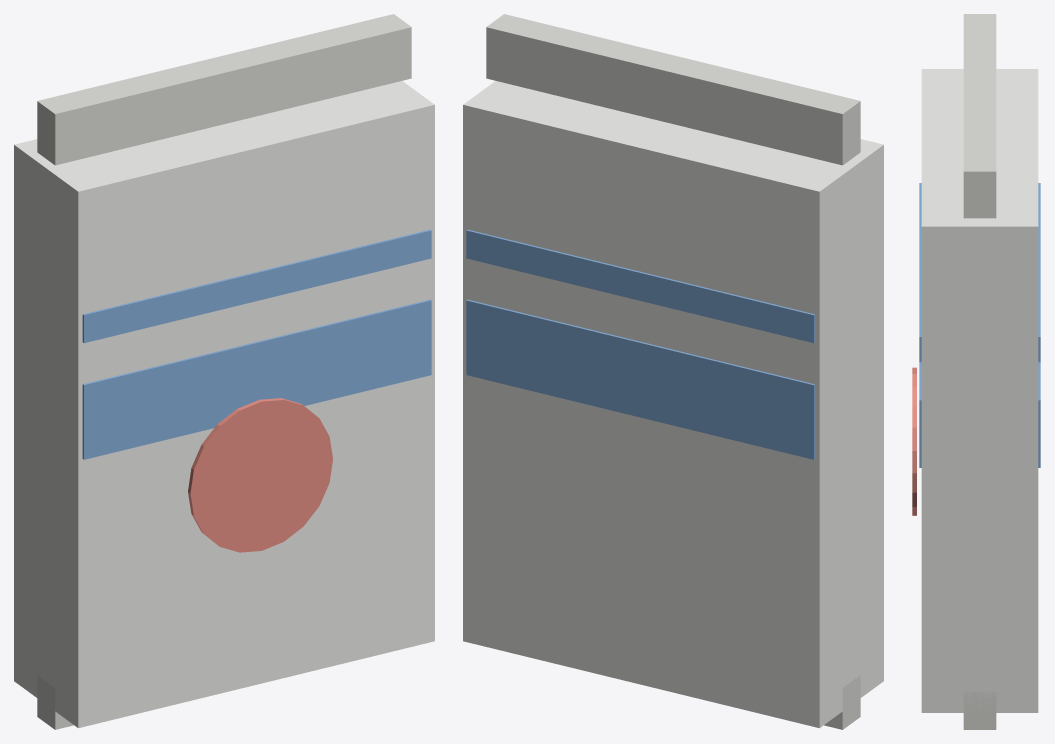
Rendered from item_45_msg_packet.glb.
3 views of the same model, side by side, from view 1: azimuth 30°, elevation 25°; view 2: azimuth 150°, elevation 25°; view 3: azimuth 270°, elevation 25° (orthographic). The views are drawn at different scales.
Parts seen in each view (by area): view 1: I45_Bag, I45_Crimp, I45_Stripe, I45_Brand, I45_Stripe2, I45_CrimpB; view 2: I45_Bag, I45_Stripe, I45_Crimp, I45_Stripe2, I45_CrimpB; view 3: I45_Bag, I45_Crimp, I45_CrimpB, I45_Stripe2, I45_Brand, I45_Stripe.
Part boxes in pixels (x1,y1,x2,y2): I45_Bag: (14,81,434,728); I45_Crimp: (37,14,411,165); I45_Stripe: (82,299,431,459); I45_Brand: (188,398,332,552); I45_Stripe2: (82,229,431,343); I45_CrimpB: (37,675,73,729); I45_Bag: (463,81,883,728); I45_Stripe: (466,299,815,459); I45_Crimp: (486,14,860,165); I45_Stripe2: (466,229,815,343); I45_CrimpB: (824,675,860,729); I45_Bag: (921,69,1038,712); I45_Crimp: (963,14,996,218); I45_CrimpB: (963,692,996,729); I45_Stripe2: (919,183,1040,362); I45_Brand: (912,367,916,515); I45_Stripe: (919,362,1040,467).
Bounding box in the file's own units: 0.08 × 0.132 × 0.0275.
